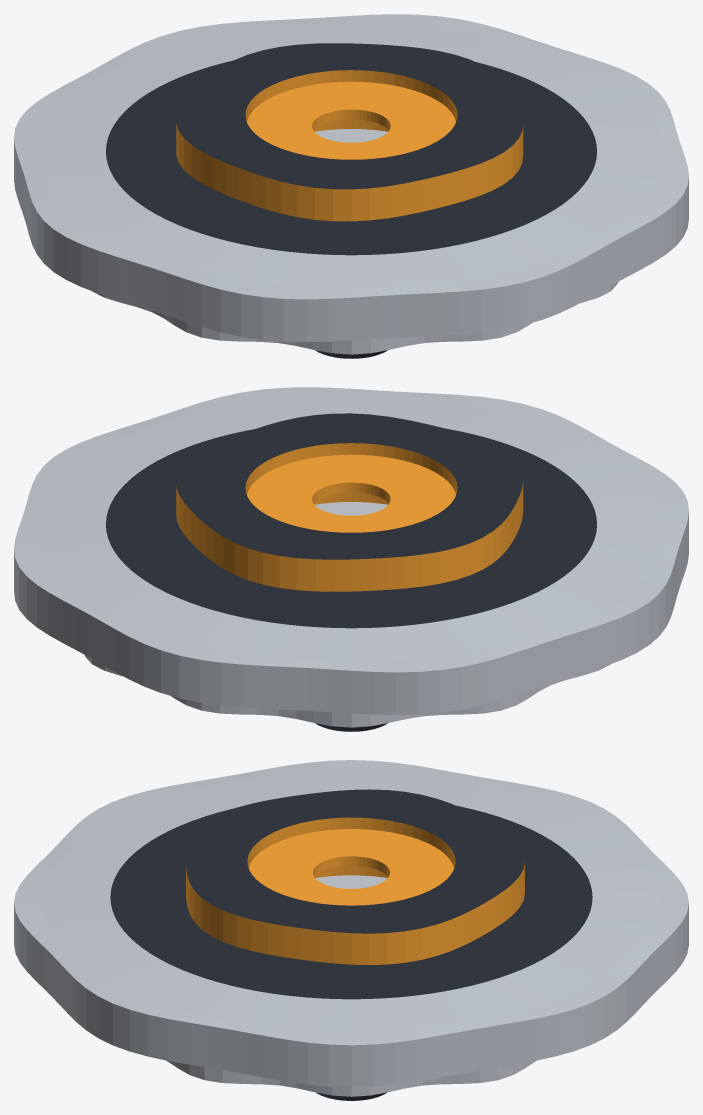
The model's file is assembly_phase2b_defense_representative.glb.
3 renders of one model, top to bottom at view 1: azimuth 30°, elevation 25°; view 2: azimuth 150°, elevation 25°; view 3: azimuth 270°, elevation 25°, orthographic.
Parts seen in each view (by area): view 1: GEO_blade_iron_bastion_BODY, GEO_core_solar_wolf_BODY, GEO_core_solar_wolf_NSS_V1_COLLAR, GEO_assist_guard_BODY, GEO_blade_iron_bastion_NSS_V1_COLLAR; view 2: GEO_blade_iron_bastion_BODY, GEO_core_solar_wolf_BODY, GEO_core_solar_wolf_NSS_V1_COLLAR, GEO_assist_guard_BODY, GEO_blade_iron_bastion_NSS_V1_COLLAR; view 3: GEO_blade_iron_bastion_BODY, GEO_core_solar_wolf_BODY, GEO_core_solar_wolf_NSS_V1_COLLAR, GEO_assist_guard_BODY, GEO_blade_iron_bastion_NSS_V1_COLLAR.
Part boxes in pixels (x1,y1,x2,y2): GEO_blade_iron_bastion_BODY: (14,14,688,341); GEO_core_solar_wolf_BODY: (176,43,523,221); GEO_core_solar_wolf_NSS_V1_COLLAR: (247,81,455,159); GEO_assist_guard_BODY: (92,282,618,354); GEO_blade_iron_bastion_NSS_V1_COLLAR: (315,129,387,142); GEO_blade_iron_bastion_BODY: (14,387,688,714); GEO_core_solar_wolf_BODY: (176,413,523,591); GEO_core_solar_wolf_NSS_V1_COLLAR: (247,454,455,532); GEO_assist_guard_BODY: (84,655,610,727); GEO_blade_iron_bastion_NSS_V1_COLLAR: (315,502,387,515); GEO_blade_iron_bastion_BODY: (14,760,688,1087); GEO_core_solar_wolf_BODY: (186,789,524,964); GEO_core_solar_wolf_NSS_V1_COLLAR: (249,829,453,905); GEO_assist_guard_BODY: (166,1060,536,1096); GEO_blade_iron_bastion_NSS_V1_COLLAR: (315,875,387,888).
Bounding box in the file's own units: 0.07 × 0.0259 × 0.07.
